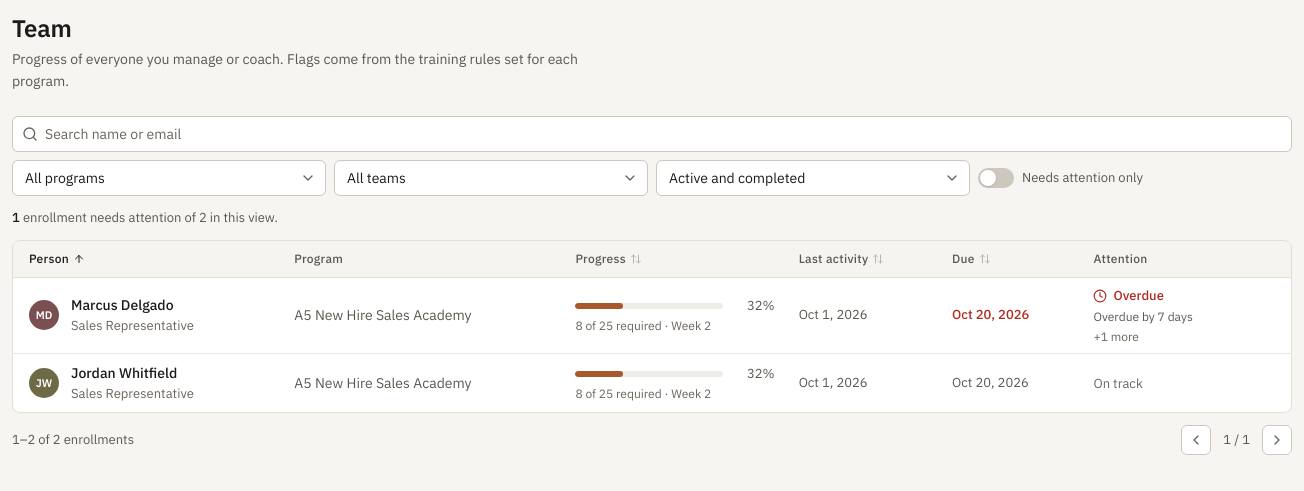
it: Team page › searches after a pause and writes the search to the URL
expect the table named "Team progress" is shown: met, box [13, 241, 1291, 412]
In the search field named "Search people": (652, 134) [12, 116, 1292, 152], type "marc"
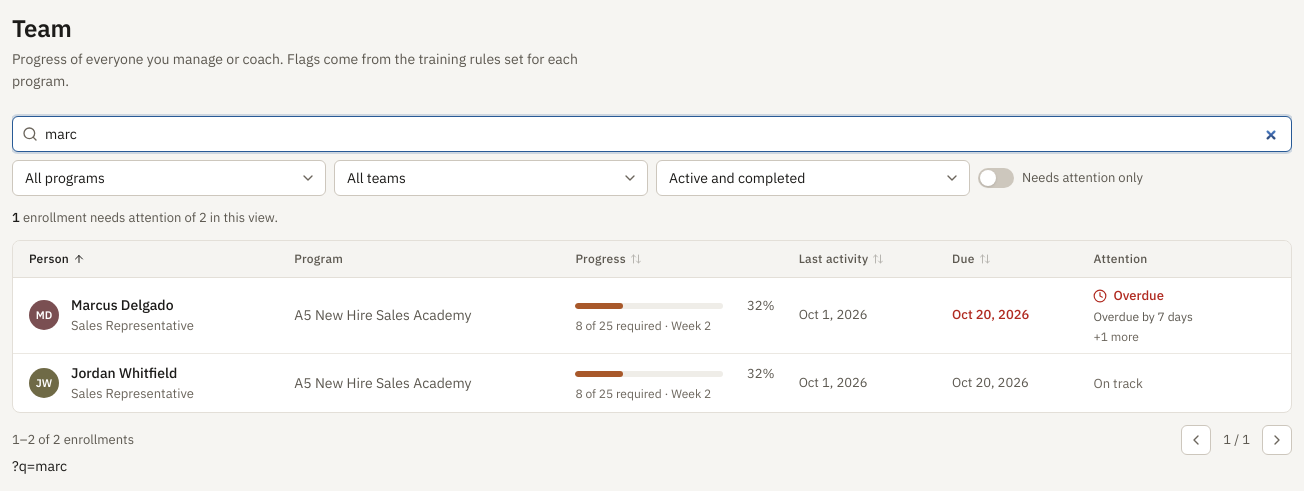
expect the text with test id "url" shows "q=marc": met, box [12, 456, 67, 474]
